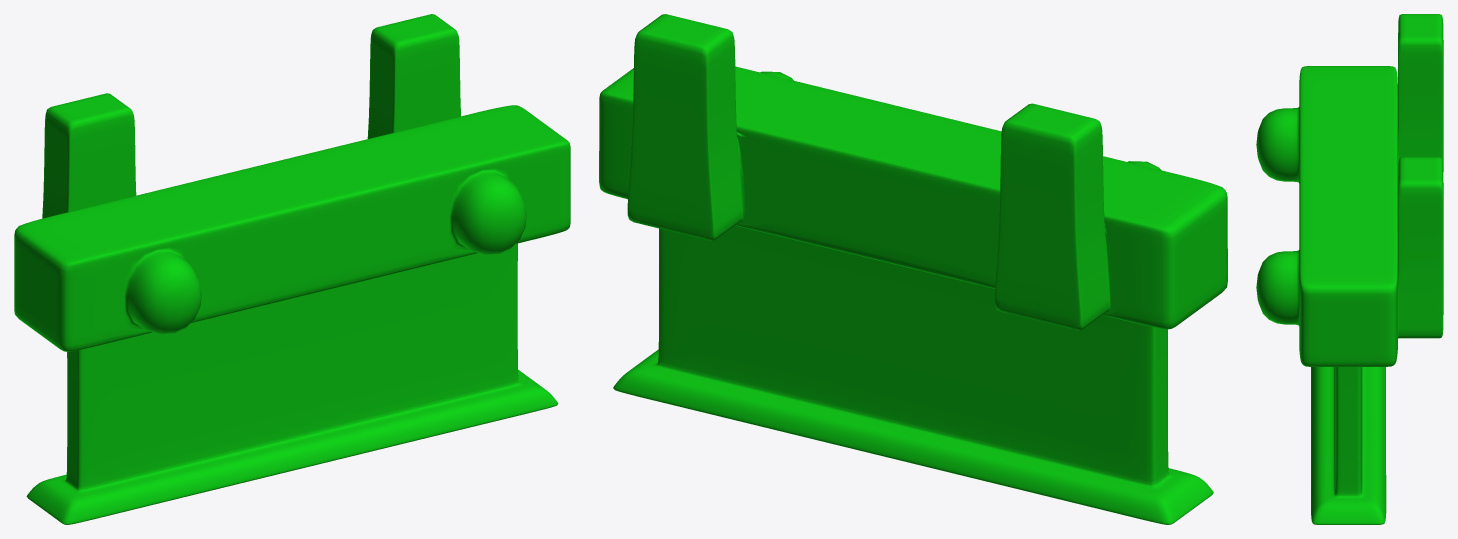
The model's file is Wood Board 1.FBX.
The picture shows the model from 3 angles, left to right: view 1: azimuth 30°, elevation 25°; view 2: azimuth 150°, elevation 25°; view 3: azimuth 270°, elevation 25°; orthographic projection. The views are drawn at different scales.
Parts seen in each view (by area): view 1: Wood Board 1; view 2: Wood Board 1; view 3: Wood Board 1.
Part boxes in pixels (<box>): Wood Board 1: <box>14,14,570,524</box>; Wood Board 1: <box>599,14,1227,524</box>; Wood Board 1: <box>1256,14,1443,524</box>.
Bounding box in the file's own units: 58 × 38.57 × 20.5.
